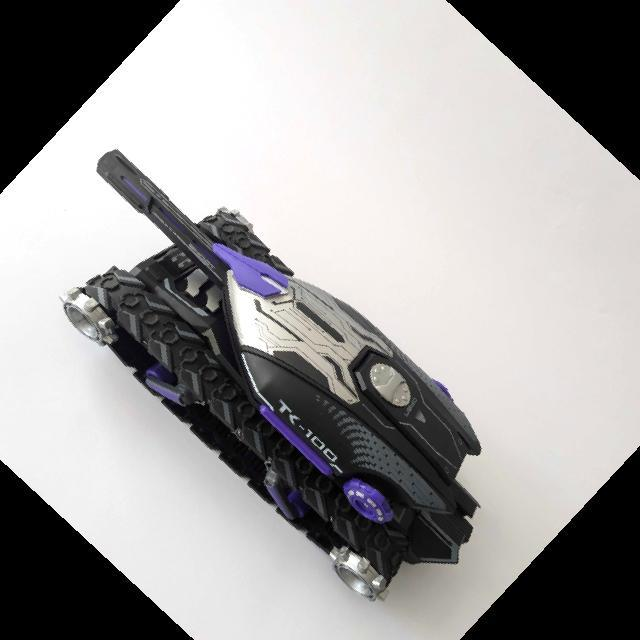barrel: (95, 148, 227, 285)
